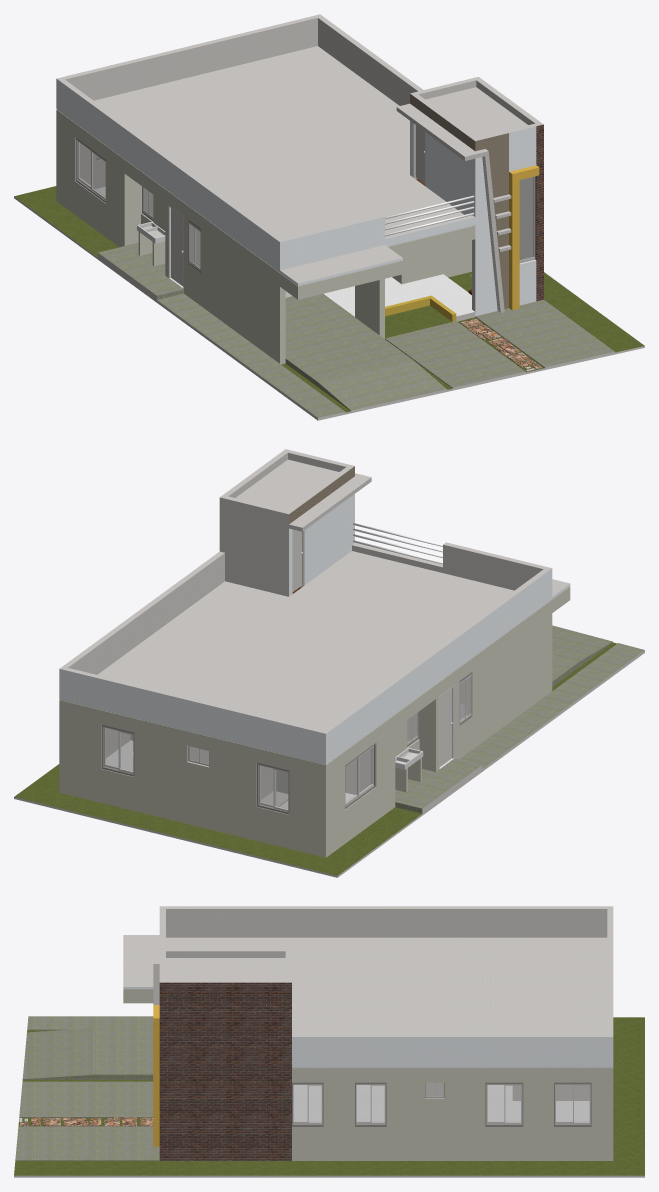
Rendered from casa_modelo_1.glb.
3 views of the same model, one above another, from view 1: azimuth 30°, elevation 25°; view 2: azimuth 150°, elevation 25°; view 3: azimuth 270°, elevation 25° (orthographic).
Visible parts, largest first — view 1: Mesh12648 Model_41, Mesh15 ventana1 Model_6, Mesh12616 Ventana_de_la_cocina1 Model_19, Mesh14 Group1 Componente_17_1 Model_7, Cylinder_0, Mesh12615 Group19152 Componente_17_2 Model_1, Mesh21 ventana7 Model_12; view 2: Mesh12648 Model_41, Mesh18 ventana4 Model_31, Mesh19 ventana5 Model_10, Mesh15 ventana1 Model_6, Mesh14 Group1 Componente_17_1 Model_7, Cylinder_0, Mesh12615 Group19152 Componente_17_2 Model_1; view 3: Mesh12648 Model_41, Mesh23 ventana9 Model_18, Mesh22 ventana8 Model_27, Mesh25 ventana11 Model_15, Mesh24 ventana10 Model_35.
Boxes of the visible parts, x1=… form: Mesh12648 Model_41: x1=14, y1=14, x2=644, y2=420; Mesh15 ventana1 Model_6: x1=75, y1=138, x2=105, y2=202; Mesh12616 Ventana_de_la_cocina1 Model_19: x1=519, y1=176, x2=535, y2=263; Mesh14 Group1 Componente_17_1 Model_7: x1=168, y1=205, x2=183, y2=288; Cylinder_0: x1=385, y1=195, x2=474, y2=236; Mesh12615 Group19152 Componente_17_2 Model_1: x1=413, y1=123, x2=425, y2=186; Mesh21 ventana7 Model_12: x1=188, y1=220, x2=200, y2=272; Mesh12648 Model_41: x1=14, y1=449, x2=644, y2=877; Mesh18 ventana4 Model_31: x1=257, y1=762, x2=289, y2=814; Mesh19 ventana5 Model_10: x1=102, y1=725, x2=134, y2=776; Mesh15 ventana1 Model_6: x1=345, y1=743, x2=375, y2=808; Mesh14 Group1 Componente_17_1 Model_7: x1=439, y1=685, x2=454, y2=768; Cylinder_0: x1=353, y1=523, x2=442, y2=564; Mesh12615 Group19152 Componente_17_2 Model_1: x1=292, y1=529, x2=304, y2=593; Mesh12648 Model_41: x1=14, y1=906, x2=644, y2=1177; Mesh23 ventana9 Model_18: x1=485, y1=1082, x2=523, y2=1126; Mesh22 ventana8 Model_27: x1=554, y1=1082, x2=591, y2=1126; Mesh25 ventana11 Model_15: x1=292, y1=1082, x2=323, y2=1126; Mesh24 ventana10 Model_35: x1=355, y1=1082, x2=386, y2=1126.
Size of the model in its own units: 11.89 by 6.32 by 20.02.
28 materials, 10 textured.
